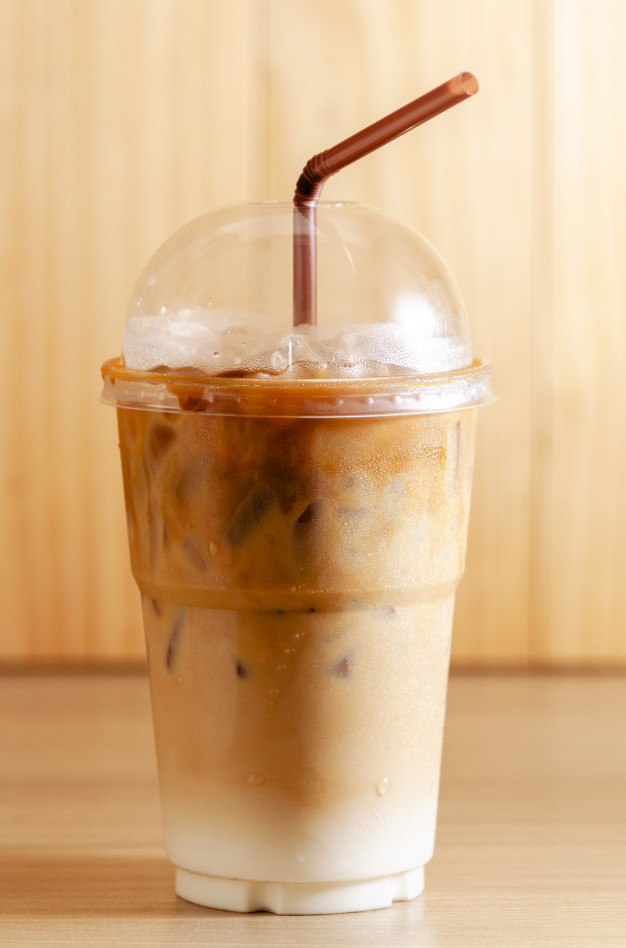plastic_bottle: (93, 190, 501, 934)
